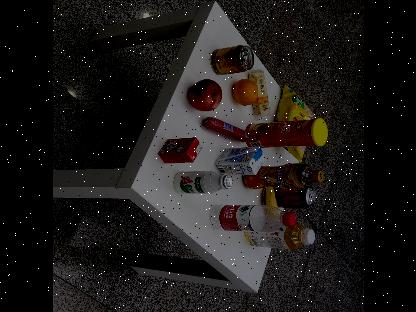Can: (210, 43, 254, 75), (276, 186, 314, 208)
Others: (244, 118, 328, 148), (212, 145, 268, 177), (155, 134, 203, 166)
Plastic Bottle: (206, 196, 300, 236)
